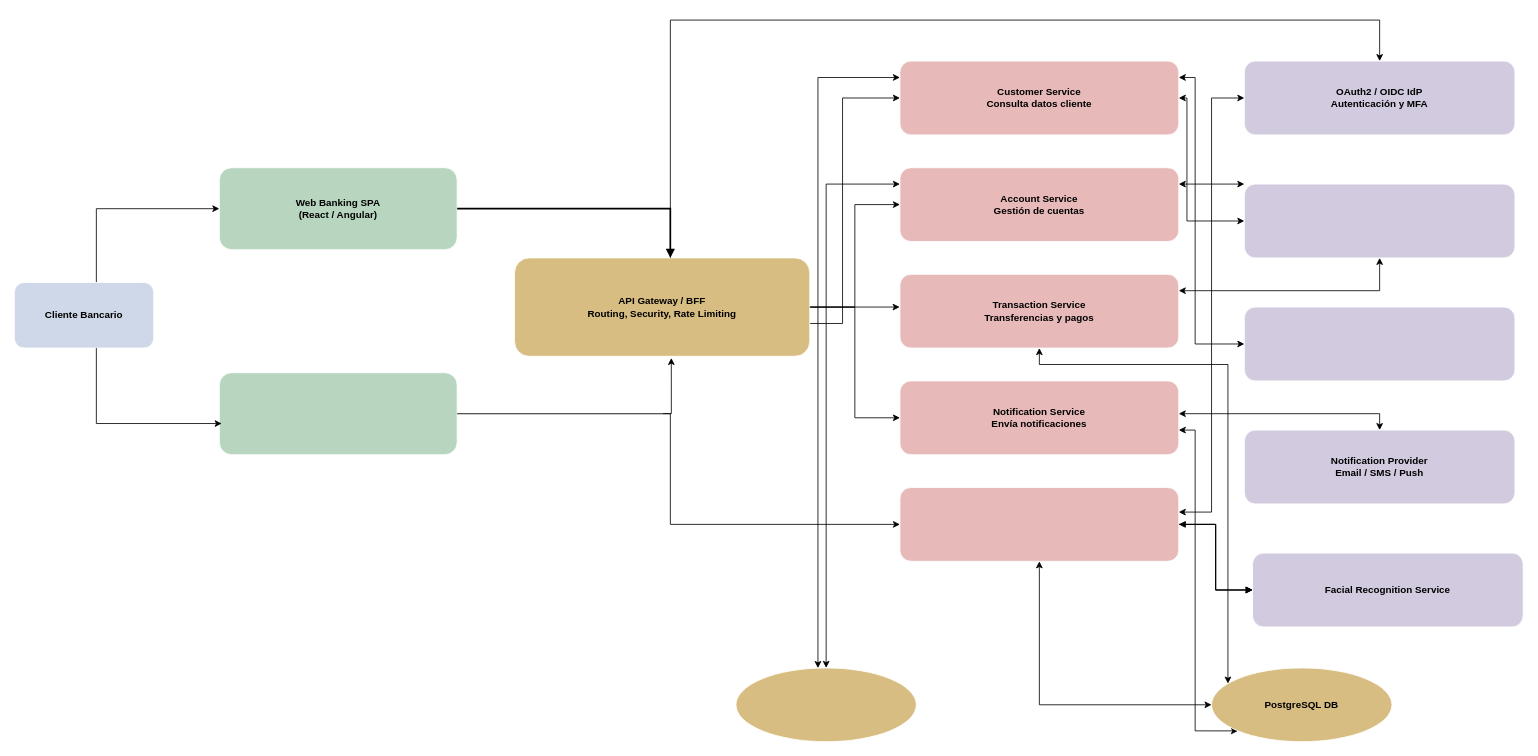
Image size: 1538x756. Some labels were removed from this diagram. The box of each missing label's shape, as (x1, y1, x2, y2) in pixels:
Core Banking System: (1244, 183, 1515, 258)
Customer Detail System: (1244, 306, 1515, 381)
Mobile Banking App (Flutter / React Native): (219, 372, 457, 455)
Onboarding Service Alta digital / biometría: (899, 487, 1179, 561)
Redis Cache: (735, 667, 916, 742)
